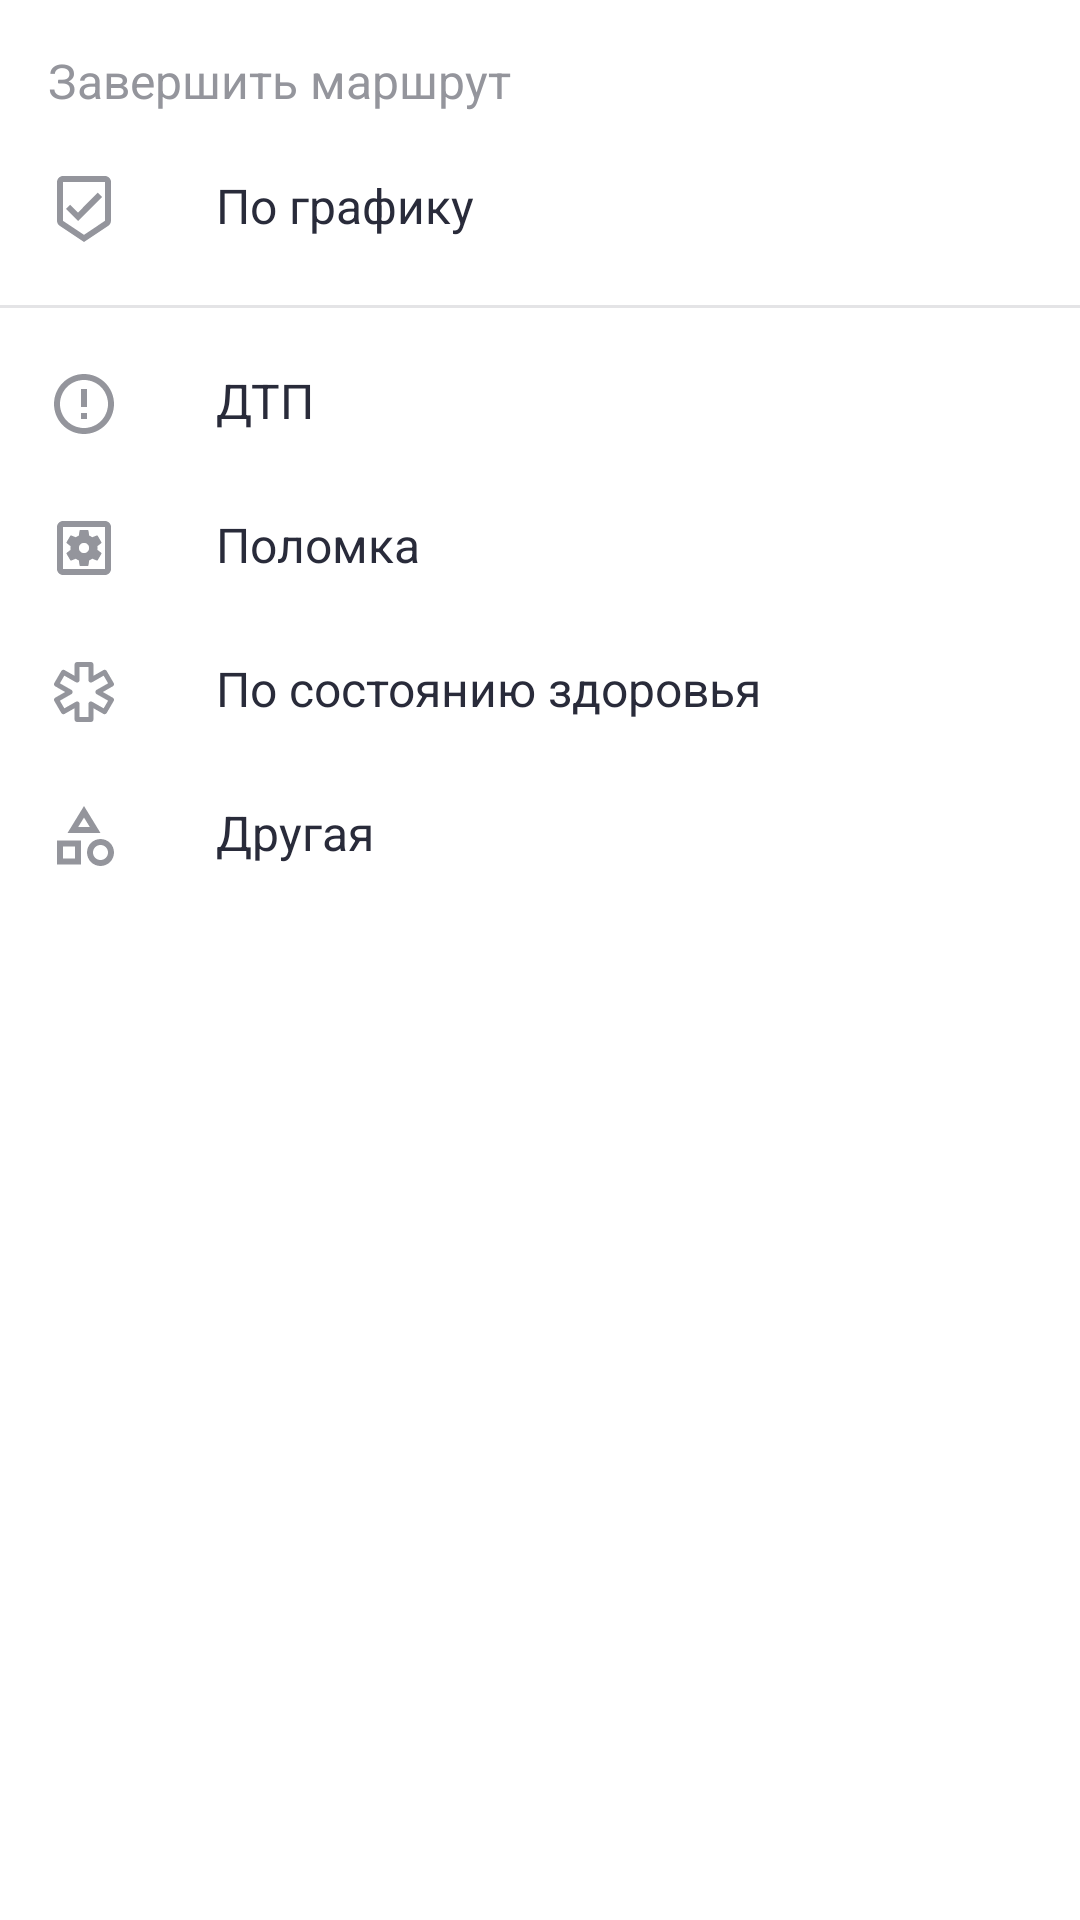

Named icons in this screenshot (1080w x 1920h) and their centers, (x,y):
beenhere: (84,209)
medic: (84,692)
